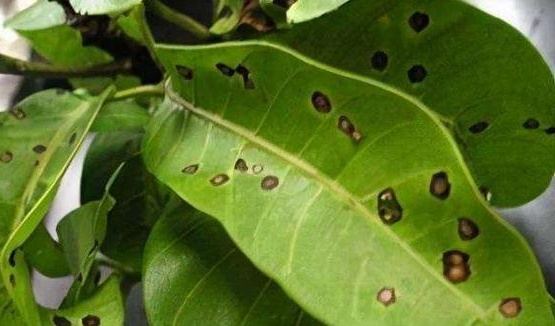Anthracnose: (367, 160, 492, 240), (0, 110, 79, 182), (353, 12, 456, 61), (378, 256, 501, 296), (266, 103, 373, 146), (141, 56, 251, 93), (169, 162, 300, 193)
